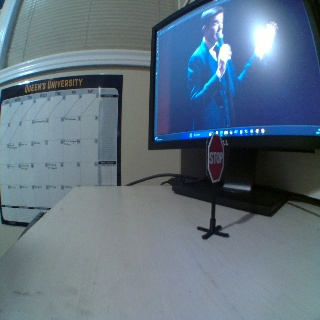sign_stop: (206, 132, 223, 183)
